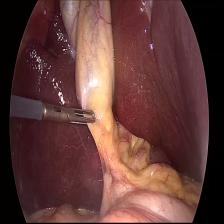Grasper: (11, 96, 97, 129)
